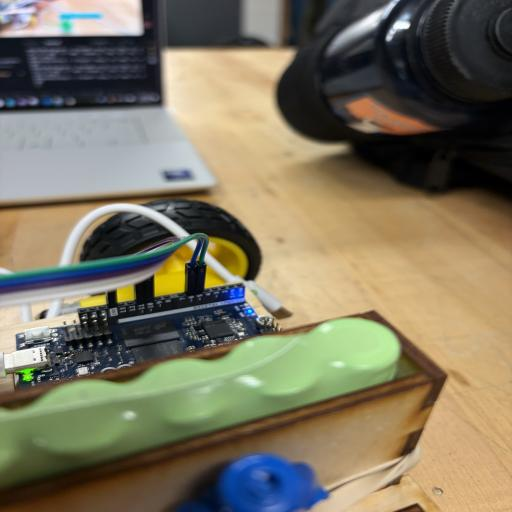Blue-Lego: (212, 453, 328, 512)
